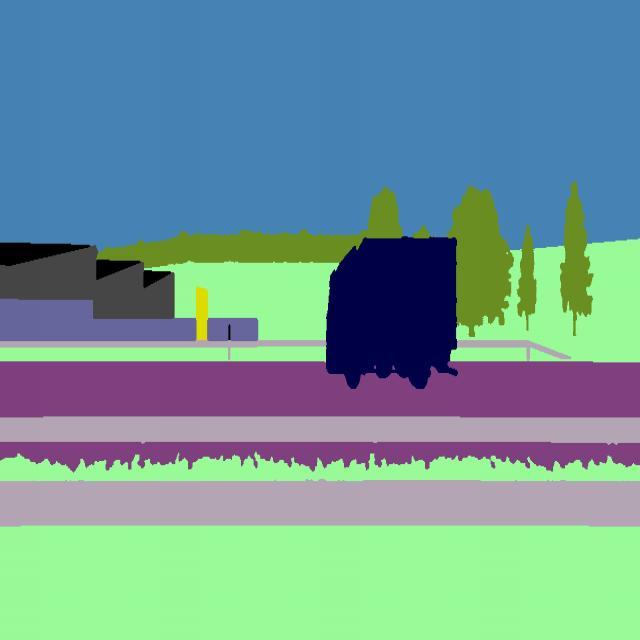safe: (320, 231, 460, 400)
